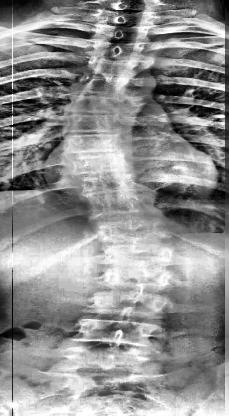Vertebrae: (67, 346, 156, 378), (77, 317, 158, 349), (88, 293, 170, 321), (102, 235, 176, 264), (84, 192, 154, 214), (106, 266, 170, 289), (66, 132, 132, 154), (74, 174, 139, 196), (96, 210, 161, 232), (63, 152, 133, 172), (65, 112, 124, 134), (92, 40, 144, 62), (88, 61, 138, 82), (82, 74, 126, 96), (98, 24, 150, 42), (74, 95, 117, 113)
